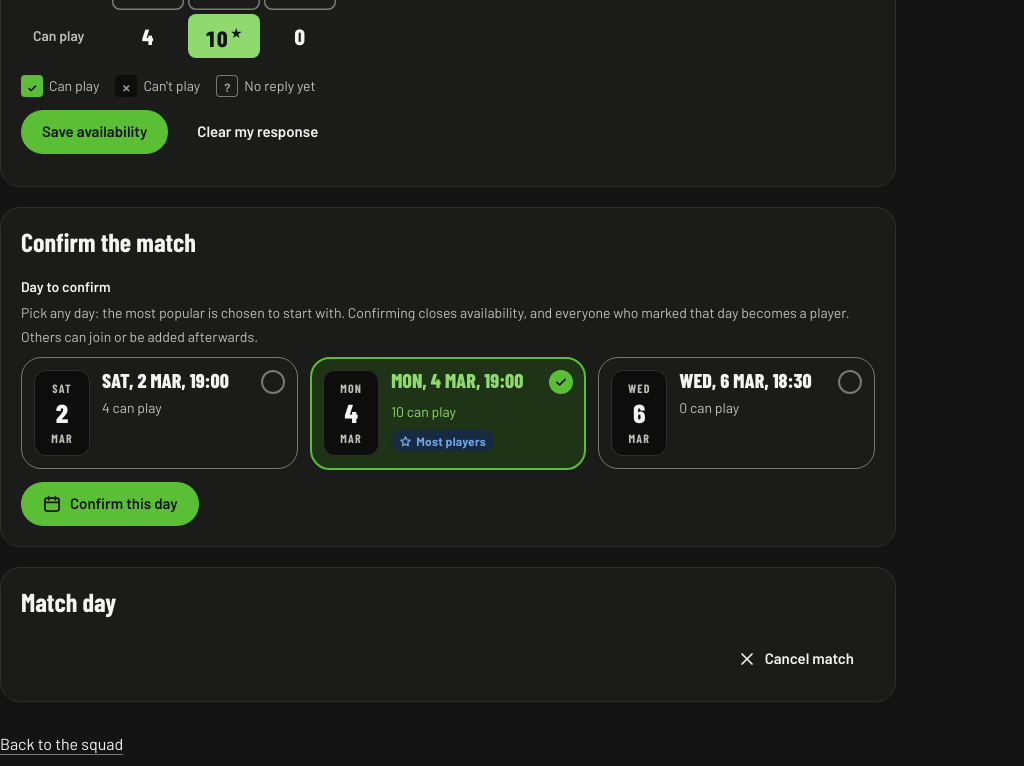
Test: MatchScreen while gathering availability › states a confirm the backend refuses
The width and height of the screenshot is (1024, 766).
(page scrolled)
Click the button "Confirm this day". click: (110, 504)
box: [21,482,198,526]
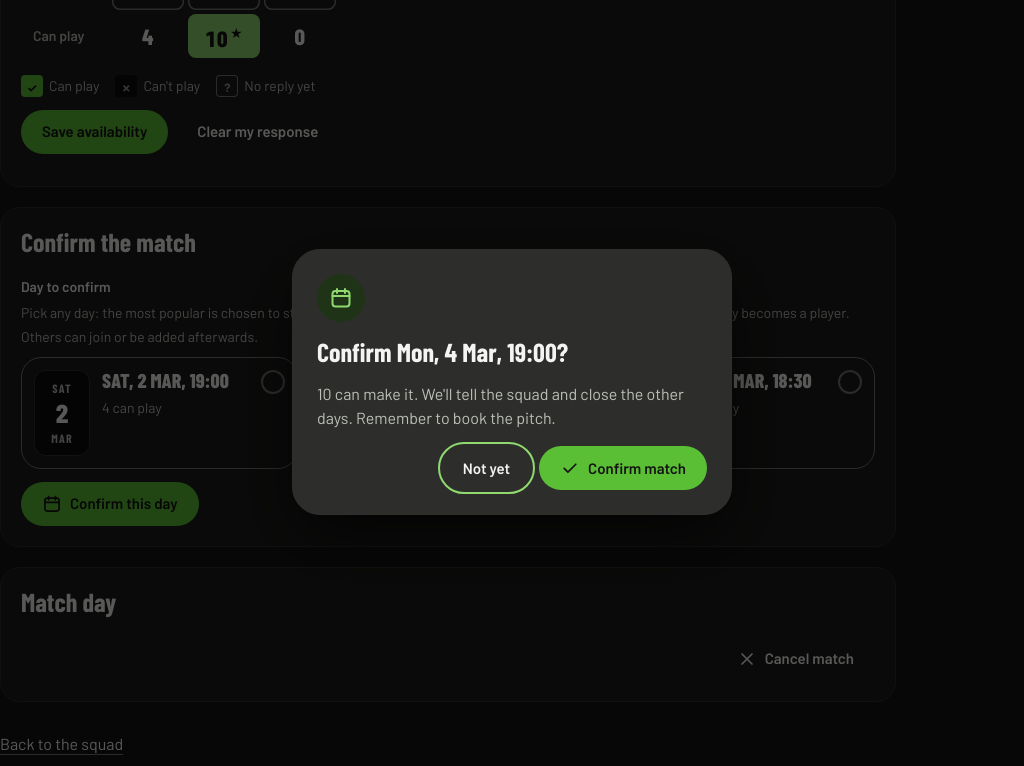
Click the button "Confirm match". click: (623, 468)
box: [539,446,707,490]
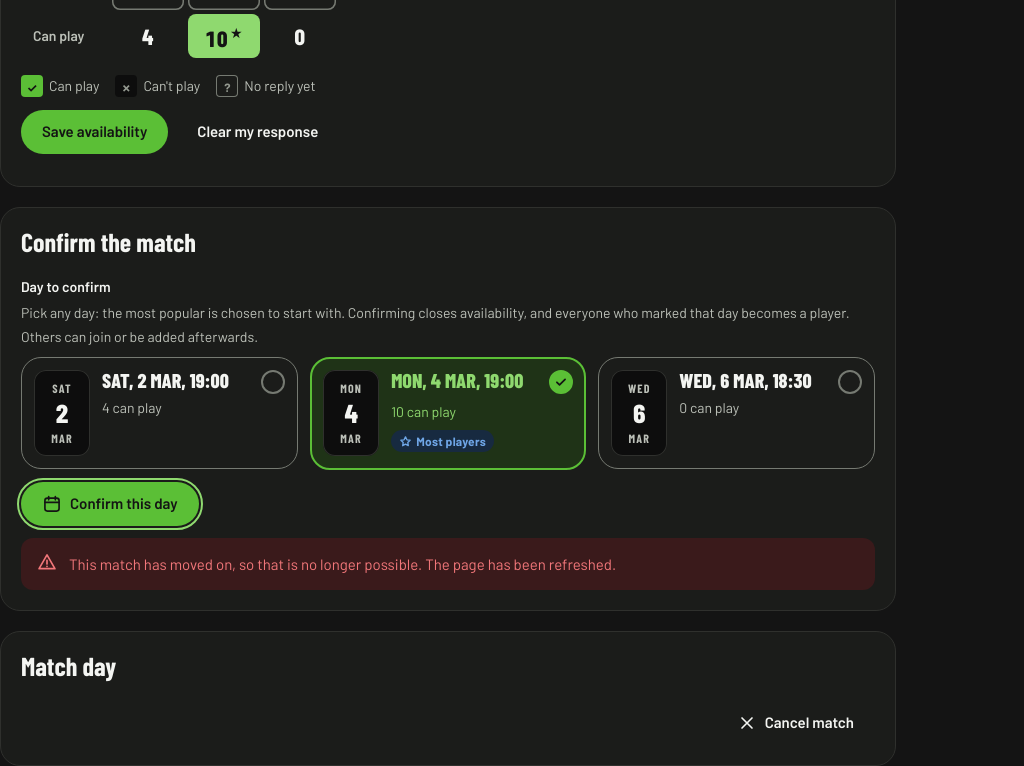
Now the text "This match has moved on, so that is no longer possible. The page has been refreshed." is shown, box [69,555,616,573]
Now the dialog is gone
